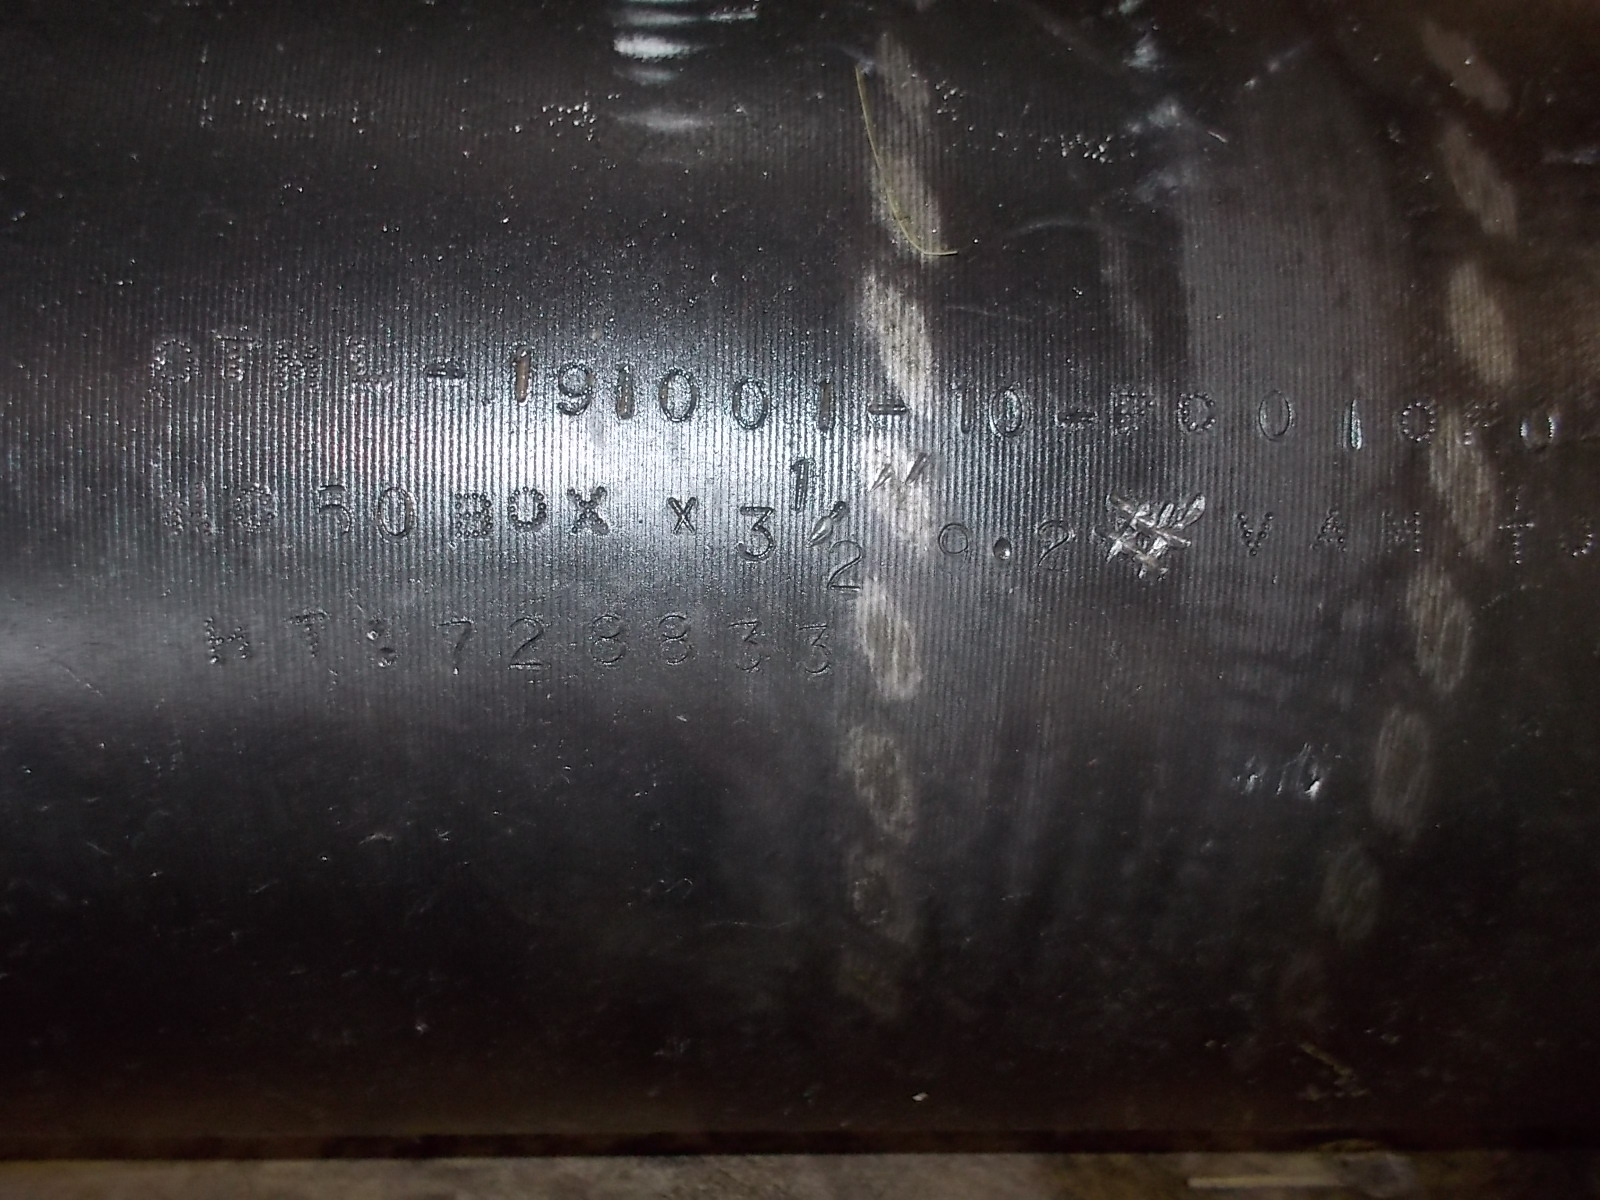character: (1096, 475, 1207, 591), (1015, 502, 1083, 592), (491, 599, 551, 695), (189, 609, 260, 678), (976, 374, 1049, 440), (421, 604, 483, 681), (304, 475, 367, 550), (493, 338, 546, 426), (728, 500, 791, 574), (270, 601, 335, 671), (367, 482, 430, 550), (648, 359, 711, 426), (559, 476, 619, 547), (653, 604, 711, 676), (1299, 493, 1361, 560), (578, 599, 632, 674), (501, 476, 559, 547), (546, 355, 603, 425), (823, 533, 882, 600), (723, 374, 787, 435), (1450, 388, 1504, 459), (1392, 389, 1450, 455), (792, 603, 840, 679), (442, 482, 498, 547), (1230, 500, 1283, 567), (1251, 383, 1305, 447), (797, 368, 847, 439), (801, 493, 862, 550), (1371, 504, 1427, 563), (722, 610, 770, 678), (925, 513, 970, 579), (1163, 391, 1225, 439), (357, 615, 404, 676), (1555, 503, 1600, 565), (1495, 512, 1540, 571), (1338, 384, 1369, 466), (779, 449, 818, 512), (654, 494, 708, 539), (609, 364, 648, 426), (417, 357, 477, 396), (1053, 405, 1100, 440), (952, 374, 976, 440), (862, 396, 923, 421), (985, 531, 1018, 570)
